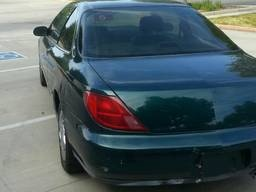acura: (28, 1, 256, 192)
